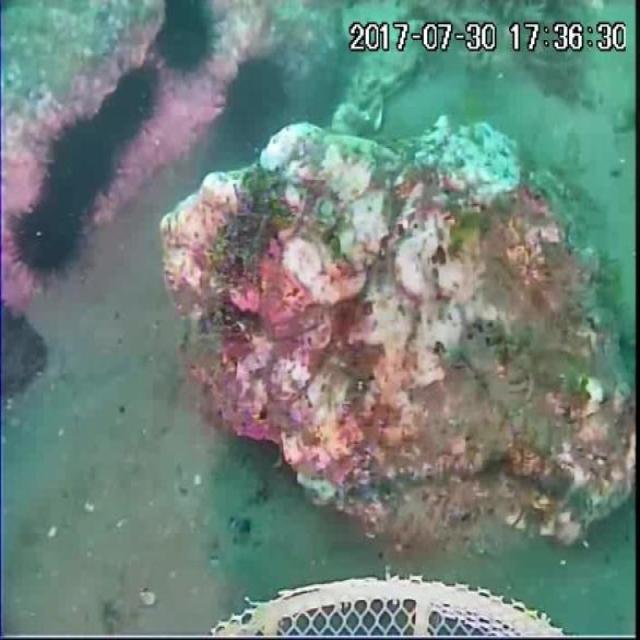echinus: (46, 116, 117, 213), (12, 194, 82, 286), (225, 52, 289, 131), (100, 60, 158, 141), (154, 0, 214, 72)
